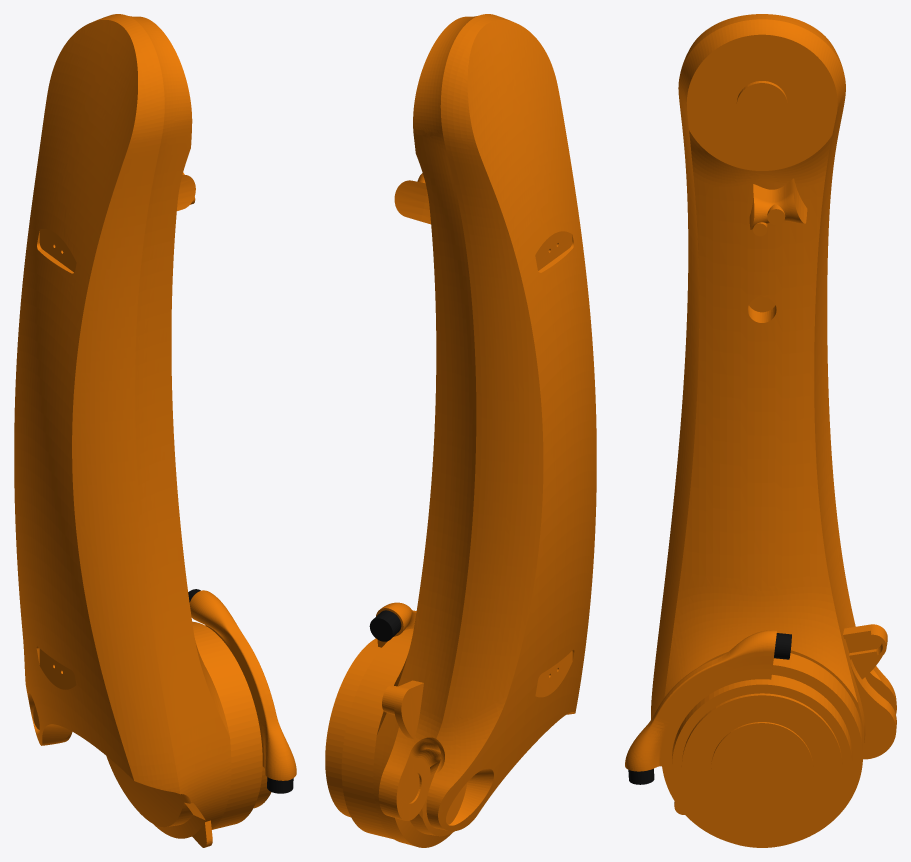
The model's file is KR210_3100_ultra_A2.dae.
3 renders of one model, left to right at view 1: azimuth 30°, elevation 25°; view 2: azimuth 150°, elevation 25°; view 3: azimuth 270°, elevation 25°, orthographic. The views are drawn at different scales.
Parts seen in each view (by area): view 1: KR 210 3100 ultra A2; view 2: KR 210 3100 ultra A2; view 3: KR 210 3100 ultra A2.
Boxes of the visible parts, bbox=[...] form: KR 210 3100 ultra A2: bbox=[14, 14, 296, 847]; KR 210 3100 ultra A2: bbox=[325, 14, 596, 847]; KR 210 3100 ultra A2: bbox=[625, 14, 896, 847].
Bounding box in the file's own units: 0.4497 × 0.5325 × 1.71.
